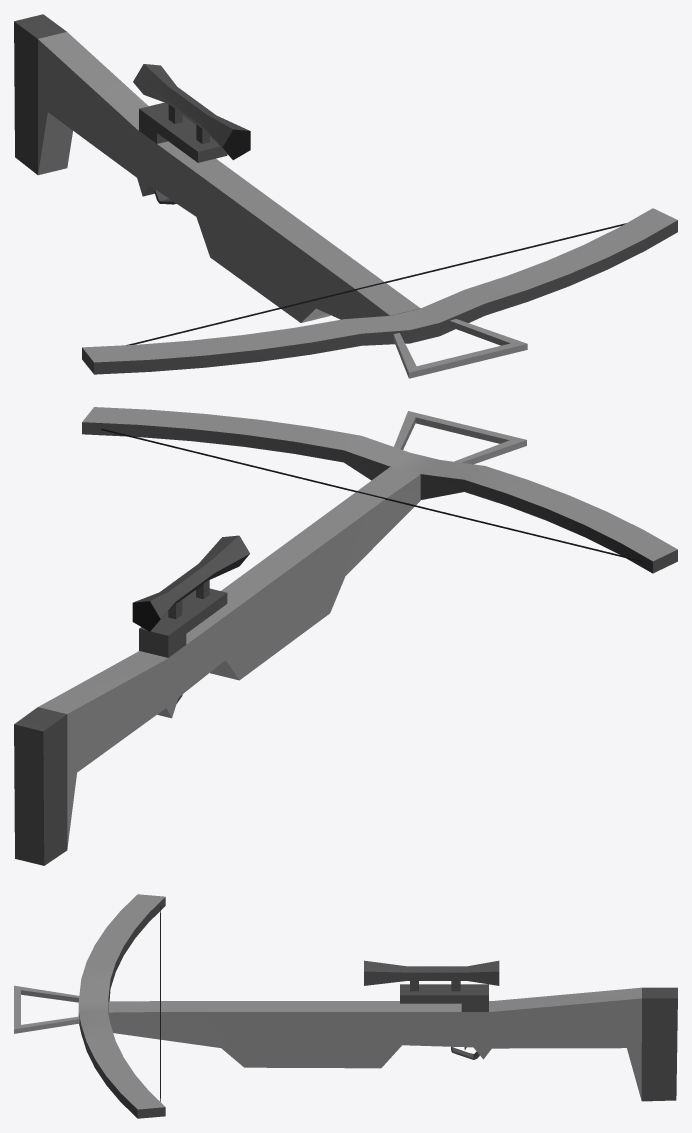
Rendered from crossbowtwo_empty.dae.
The picture shows the model from 3 angles, top to bottom: view 1: azimuth 30°, elevation 25°; view 2: azimuth 150°, elevation 25°; view 3: azimuth 270°, elevation 25°; orthographic projection. The views are drawn at different scales.
Parts seen in each view (by area): view 1: vsn_mesh_0_crossbowtwo_empty; view 2: vsn_mesh_0_crossbowtwo_empty; view 3: vsn_mesh_0_crossbowtwo_empty.
Boxes of the visible parts, bbox=[...] form: vsn_mesh_0_crossbowtwo_empty: bbox=[14, 14, 677, 378]; vsn_mesh_0_crossbowtwo_empty: bbox=[14, 407, 677, 865]; vsn_mesh_0_crossbowtwo_empty: bbox=[14, 894, 677, 1118].
Size of the model in its own units: 0.6959 by 0.2023 by 0.9068.
1 material, 1 textured.
